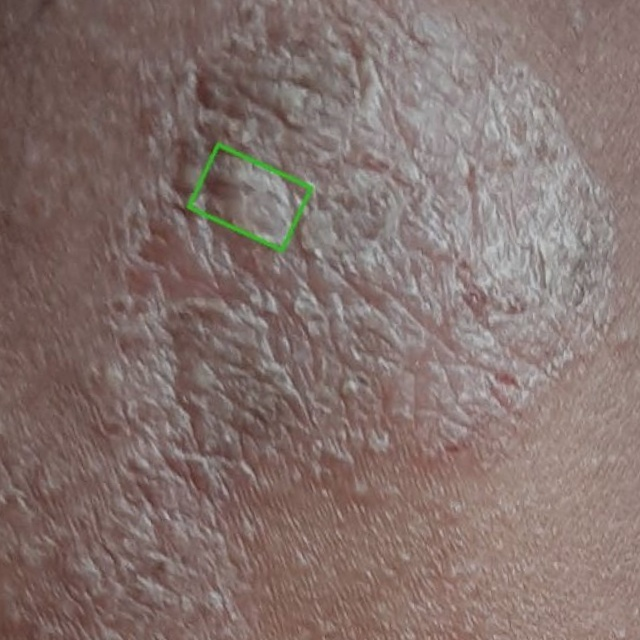Contact Dermatitis: (189, 145, 311, 251)
